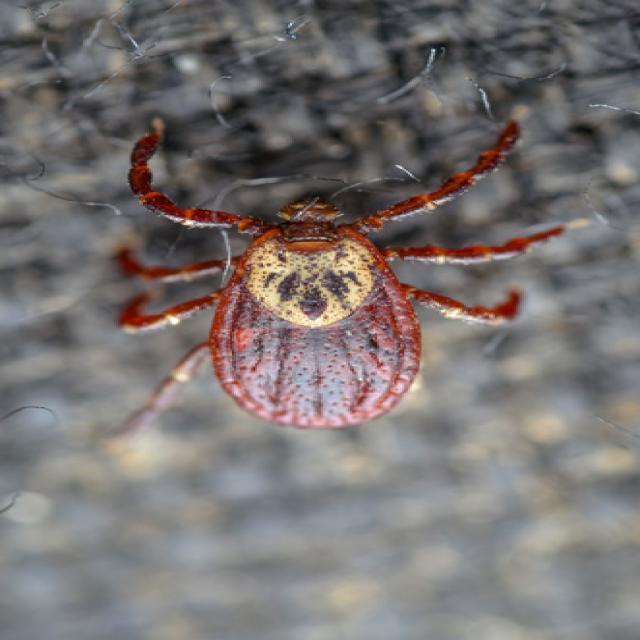Dermacentor Reticulatus-F: (116, 121, 564, 435)
